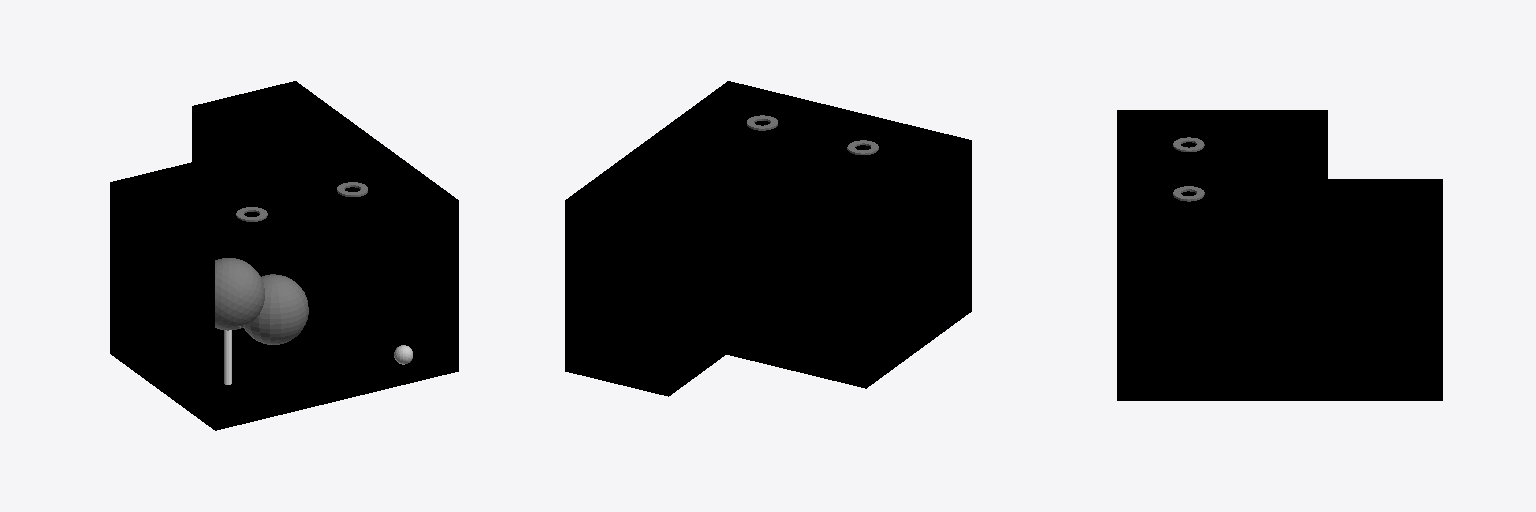
File: box_glass_maya.obj
The picture shows the model from 3 angles: view 1: azimuth 30°, elevation 25°; view 2: azimuth 150°, elevation 25°; view 3: azimuth 270°, elevation 25°; orthographic projection.
Parts seen in each view (by area): view 1: pCube1, polySurface723, pSphere3; view 2: pCube1; view 3: pCube1.
Boxes of the visible parts, <box> form: pCube1: <box>110,81,458,430</box>; polySurface723: <box>215,258,264,330</box>; pSphere3: <box>243,274,308,344</box>; pCube1: <box>565,81,971,396</box>; pCube1: <box>1117,110,1442,400</box>.
Bounding box in the file's own units: 28.98 × 19.97 × 33.46.